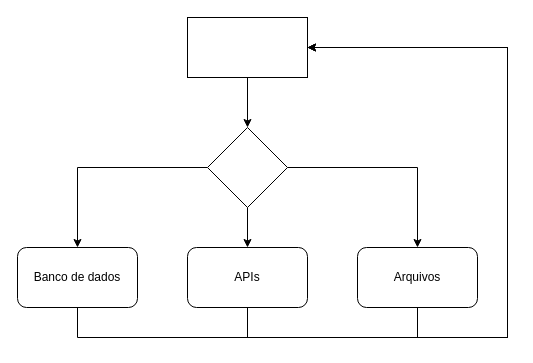
The diagram is 533 pixels wide and 363 high, and some of its shapes have lost their labels. The box of each missing label's shape, as (x1, y1, x2, y2) in pixels:
Agente: (186, 16, 308, 78)
Servidor MCP: (206, 126, 288, 208)
